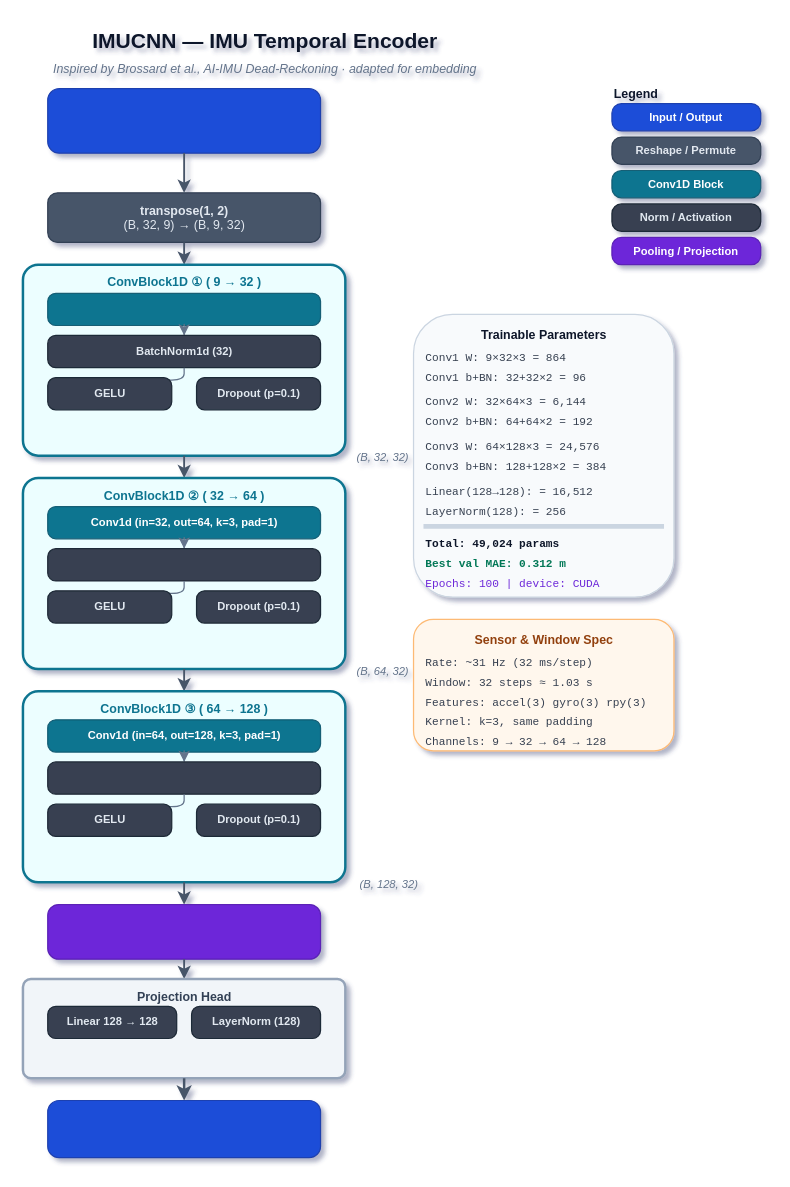
The diagram is 790 pixels wide and 1187 high, and some of its shapes have lost their labels. The centre of each missing label's shape, as x and y in pixels:
BatchNorm1d (128): point 183,777
BatchNorm1d (64): point 183,564
Conv1d (in=9, out=32, k=3, pad=1): point 183,309
Embedding z z ∈ ℝ B × 128: point 183,1128
Global Average Pooling mean(dim=2) → (B, 128): point 183,931
IMU Window x ∈ ℝ B × 32 × 9 accel_xyz · gyro_xyz · roll/pitch/yaw: point 183,120
